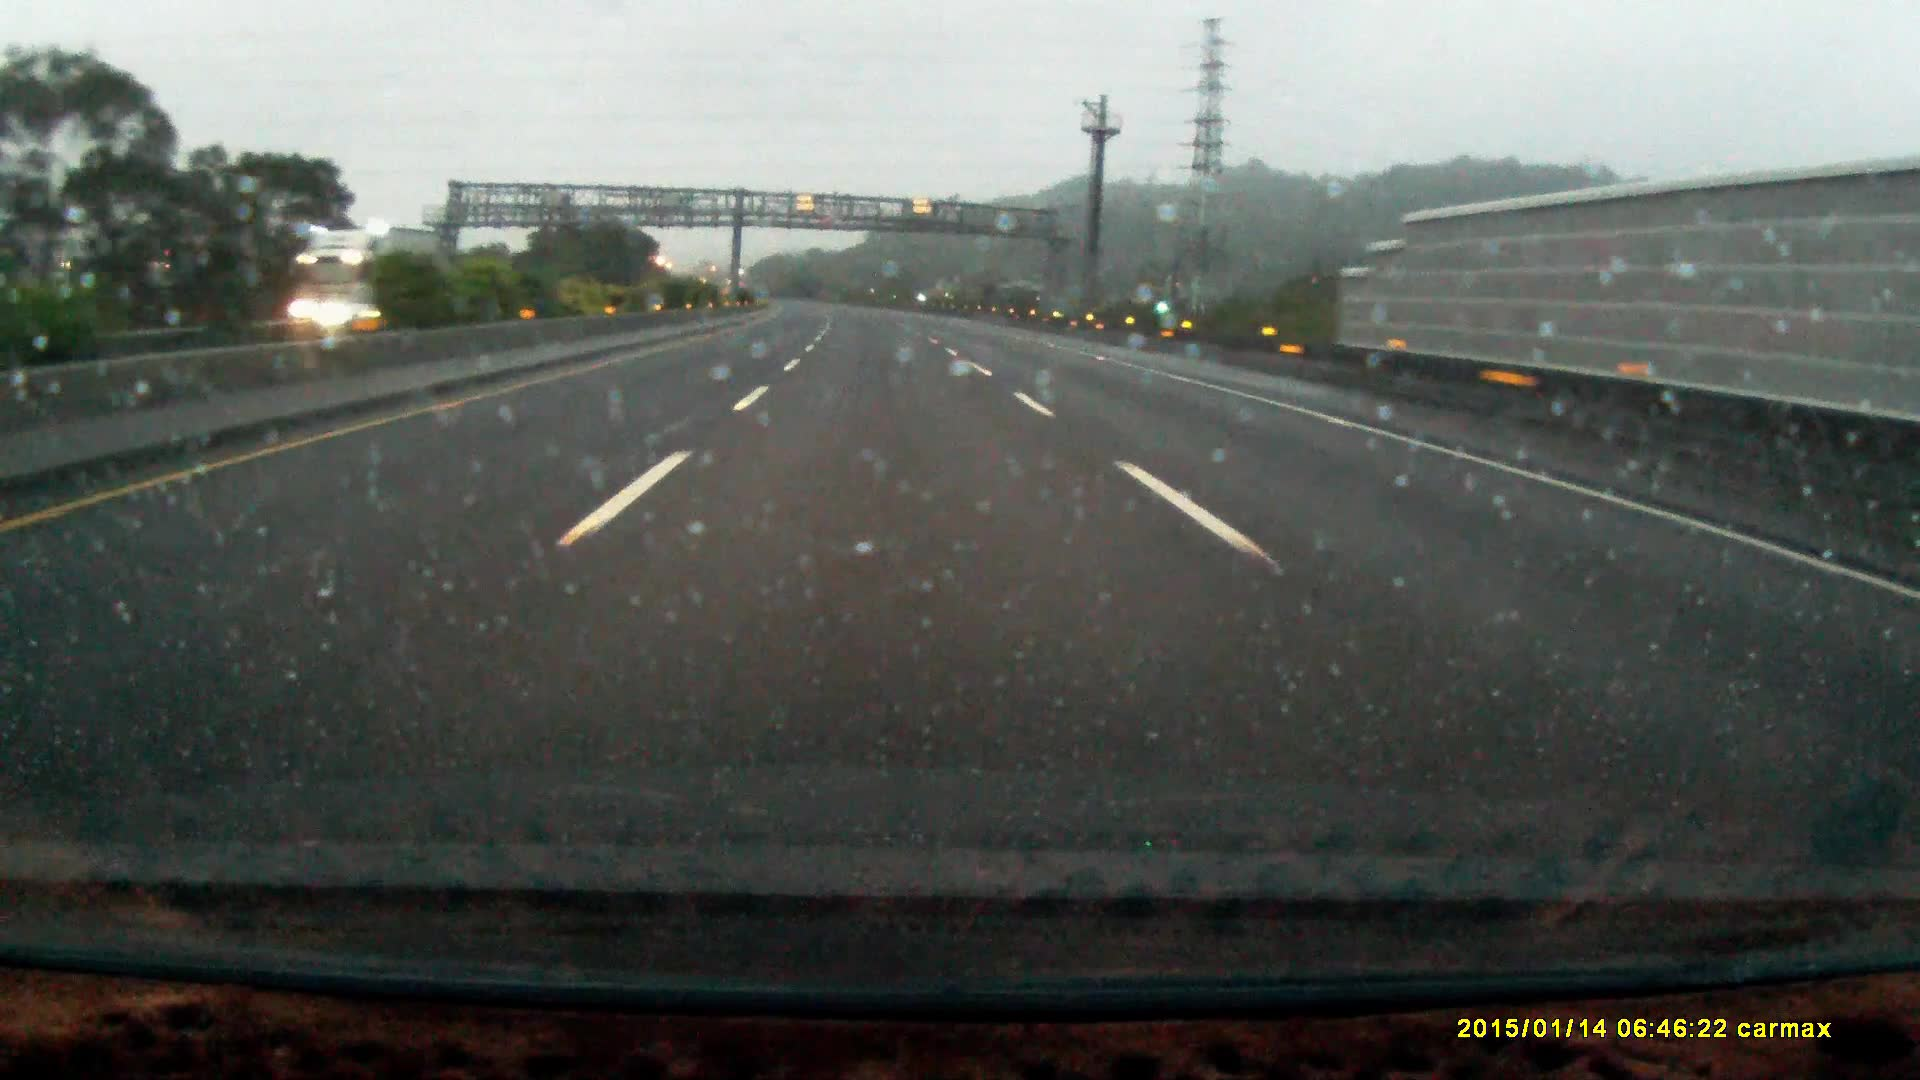vehicle: (287, 229, 438, 328), (319, 284, 404, 334)
